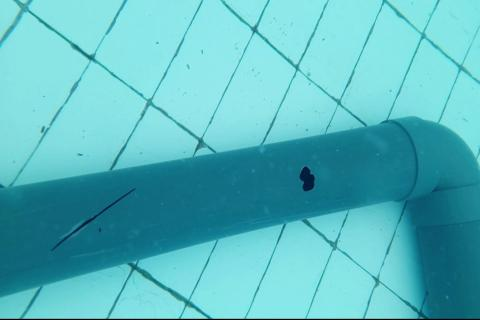kebocoran: (300, 164, 315, 192)
keretakan: (49, 186, 138, 253)
